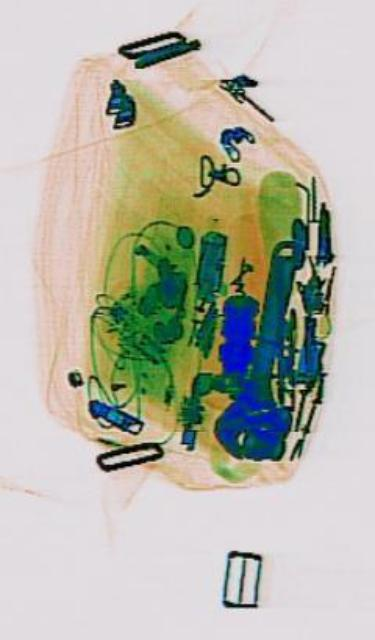Wrench: (209, 219, 319, 473)
